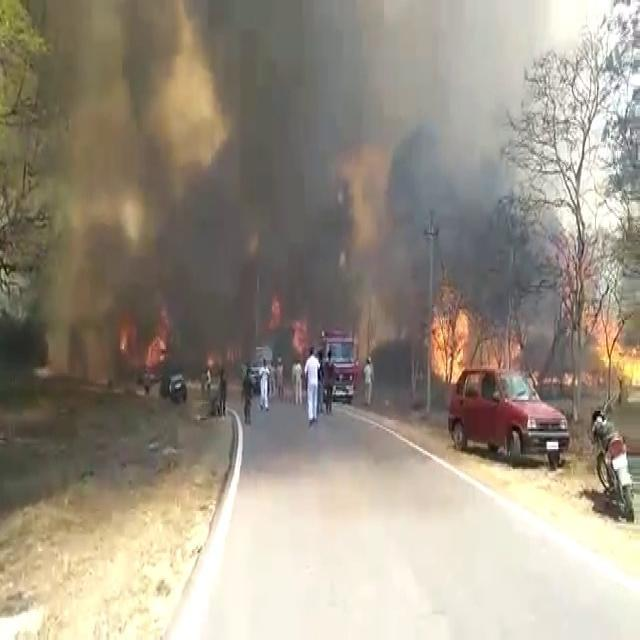Fire: (431, 309, 478, 382), (612, 307, 640, 400), (147, 309, 168, 369), (120, 324, 139, 375), (258, 295, 283, 332), (145, 331, 165, 371), (291, 319, 309, 358)
Smoke: (139, 0, 495, 265)
